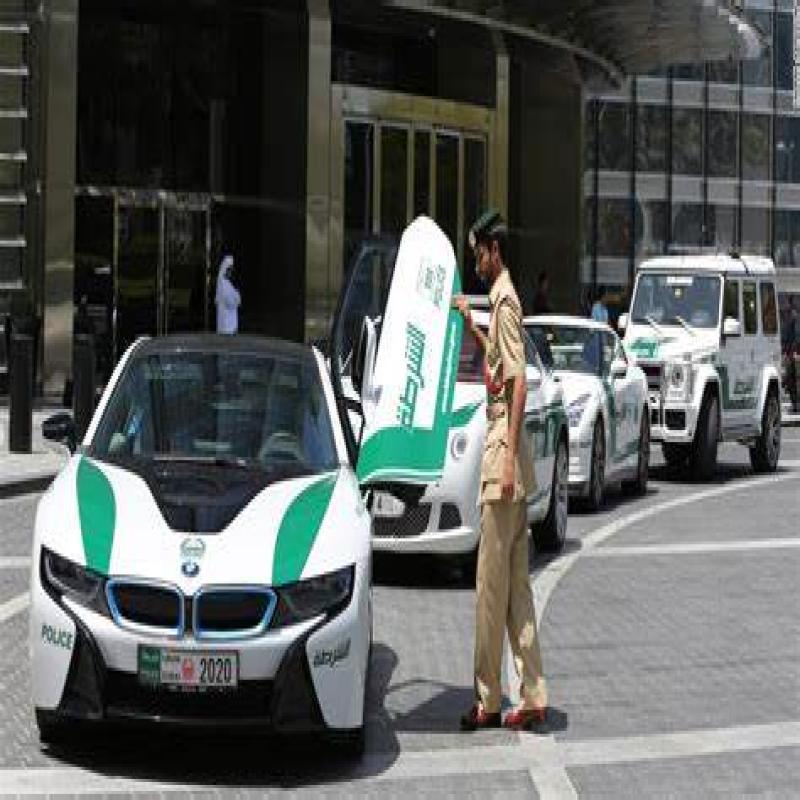car: (63, 287, 370, 735)
